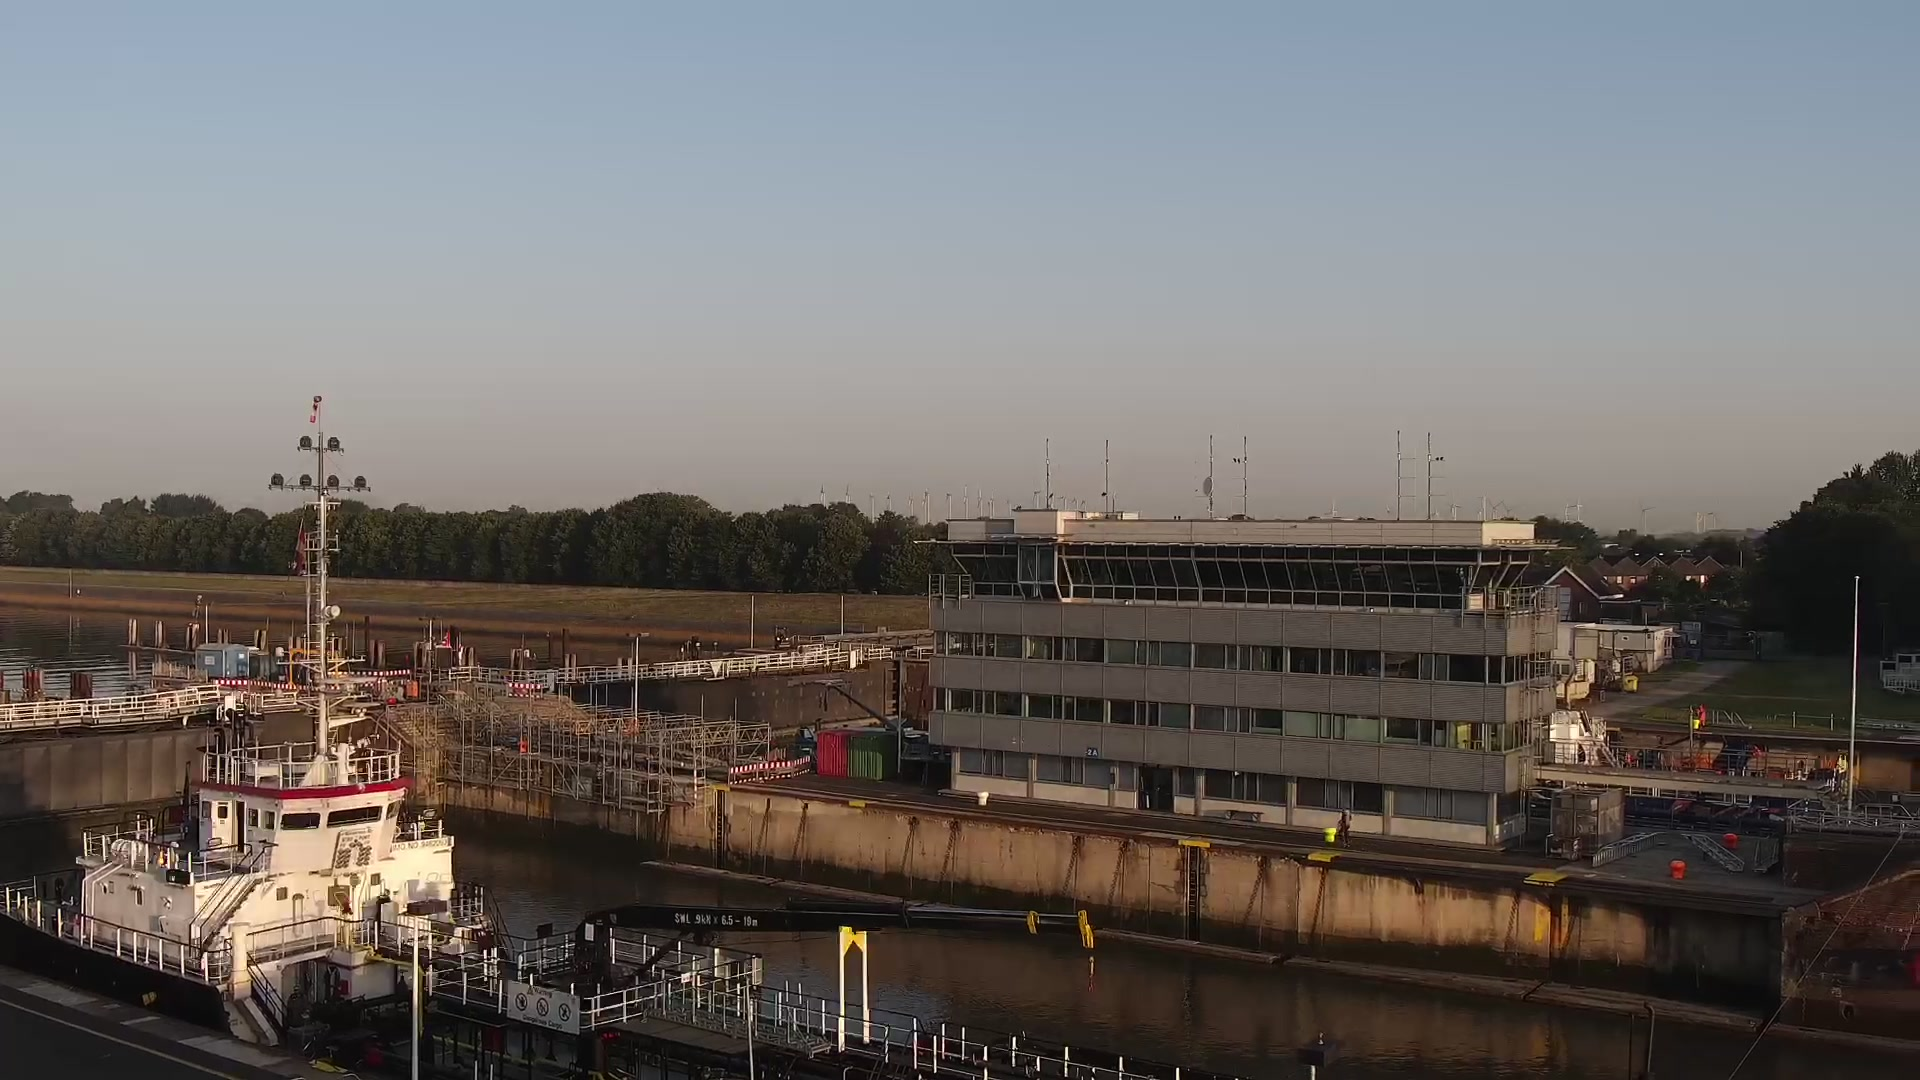human: (1337, 807, 1353, 848), (1695, 703, 1706, 730)
sea: (1, 395, 1313, 1080)
